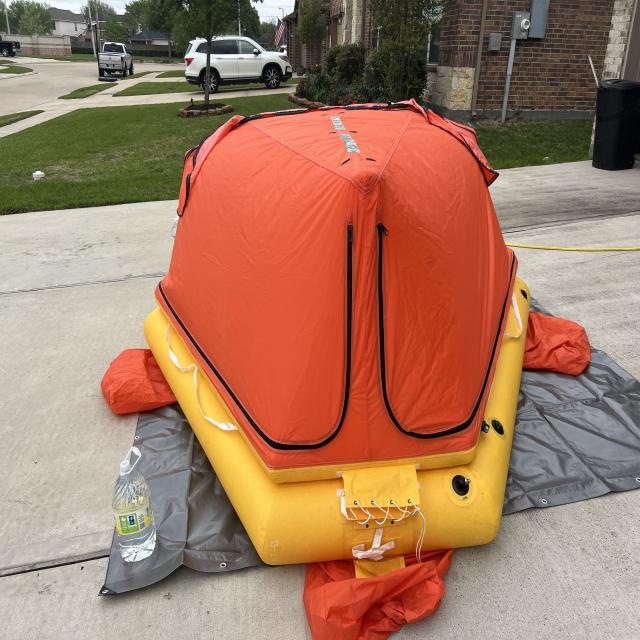Multi-person_life_raft: (100, 78, 590, 638)
